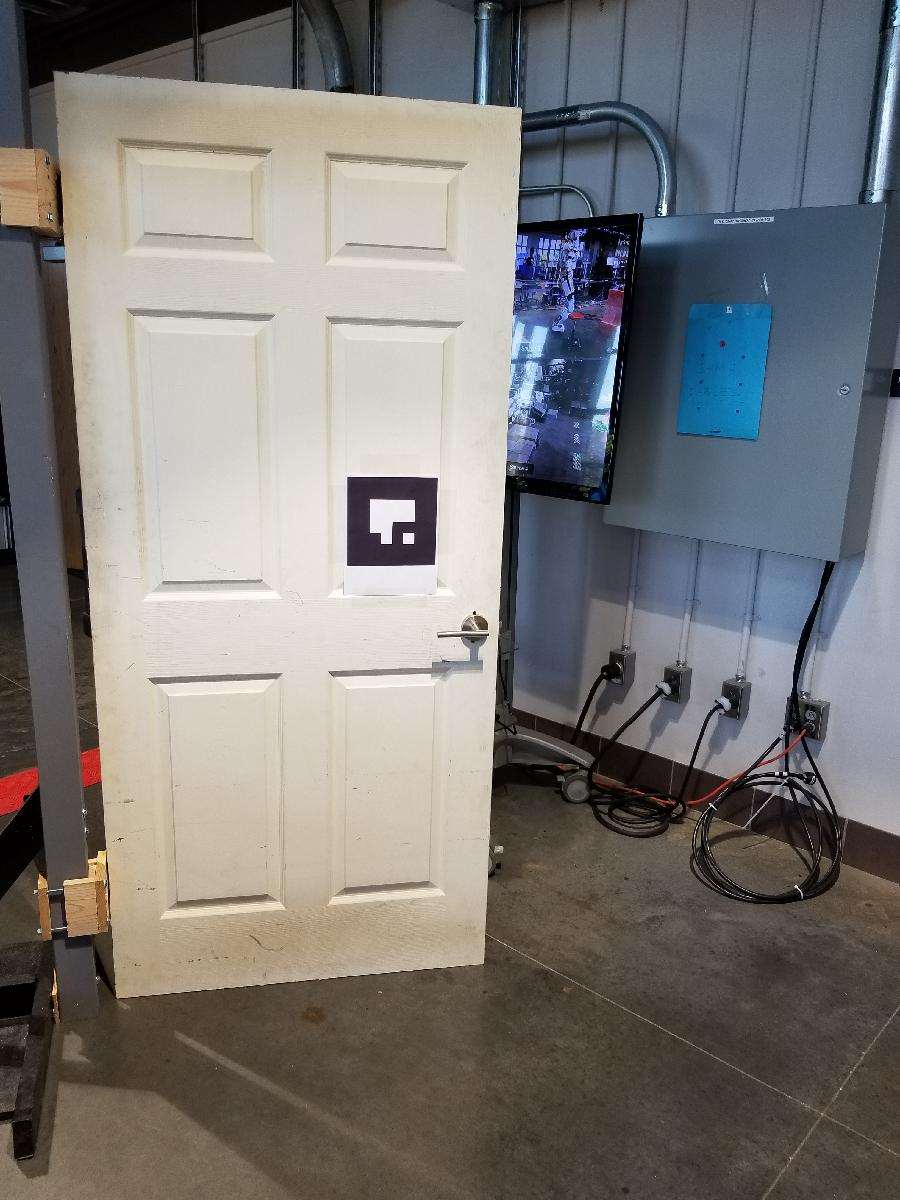door: (50, 66, 532, 1013)
doorHandle: (437, 616, 493, 655)
